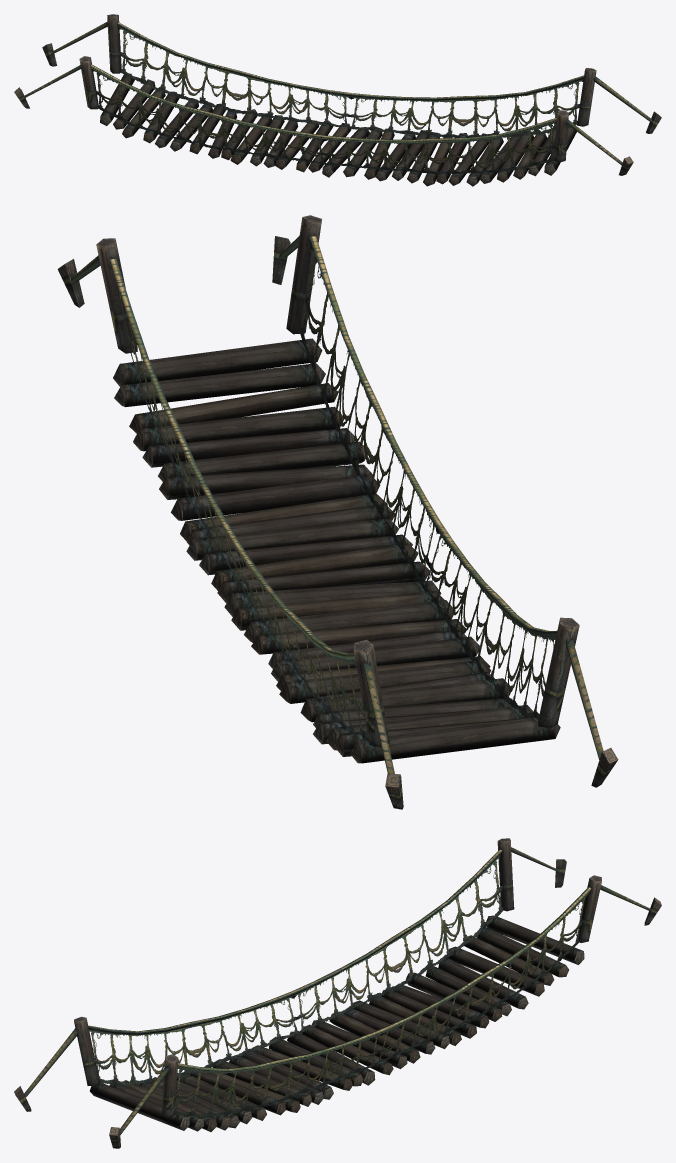
Rendered from cave_bridgediagonal_02.fbx.
The picture shows the model from 3 angles, top to bottom: view 1: azimuth 30°, elevation 25°; view 2: azimuth 150°, elevation 25°; view 3: azimuth 270°, elevation 25°; orthographic projection. The views are drawn at different scales.
Visible parts, largest first — view 1: cave_tileset/bridge01_shadow; view 2: cave_tileset/bridge01_shadow; view 3: cave_tileset/bridge01_shadow.
Boxes of the visible parts, x1=… form: cave_tileset/bridge01_shadow: x1=14, y1=14, x2=661, y2=186; cave_tileset/bridge01_shadow: x1=57, y1=215, x2=618, y2=809; cave_tileset/bridge01_shadow: x1=14, y1=838, x2=661, y2=1148.
Bounding box in the file's own units: 18.2 × 3.53 × 18.2.
